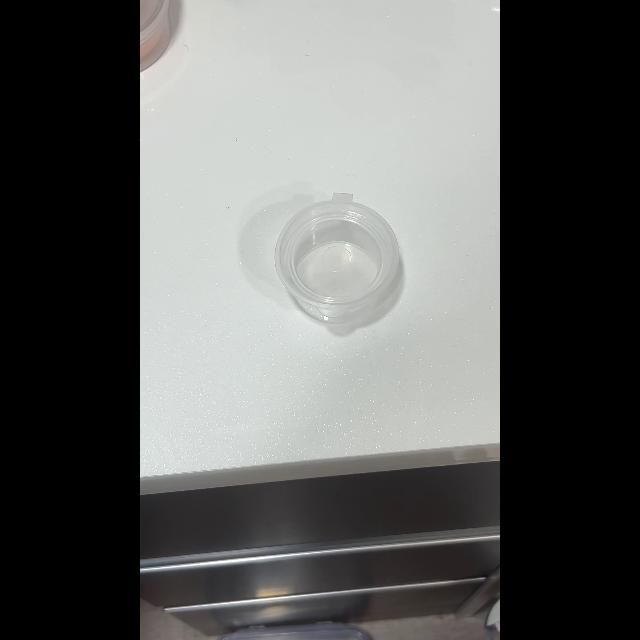clean: (278, 189, 404, 321)
